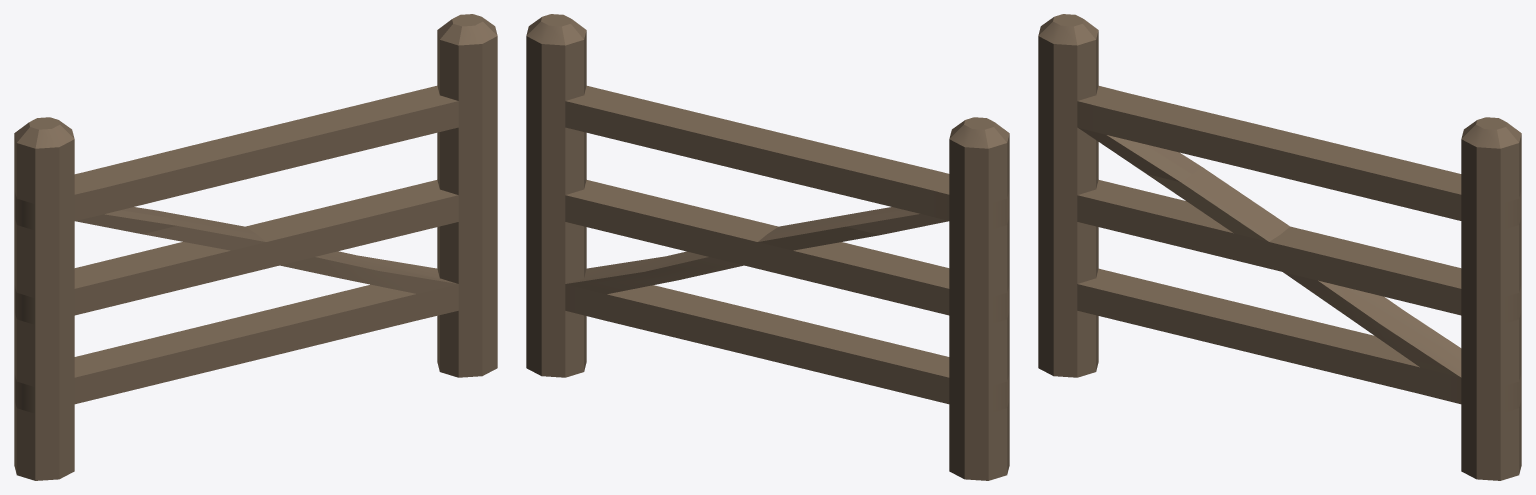
File: right_gate.fbx
3 views of the same model, side by side, from view 1: azimuth 30°, elevation 25°; view 2: azimuth 150°, elevation 25°; view 3: azimuth 330°, elevation 25° (orthographic).
Visible parts, largest first — view 1: Right_gate; view 2: Right_gate; view 3: Right_gate.
Part boxes in pixels (x1=…): Right_gate: x1=14, y1=14, x2=497, y2=480; Right_gate: x1=526, y1=14, x2=1009, y2=480; Right_gate: x1=1038, y1=14, x2=1521, y2=480.
Bounding box in the file's own units: 13.57 × 9.35 × 1.47.
